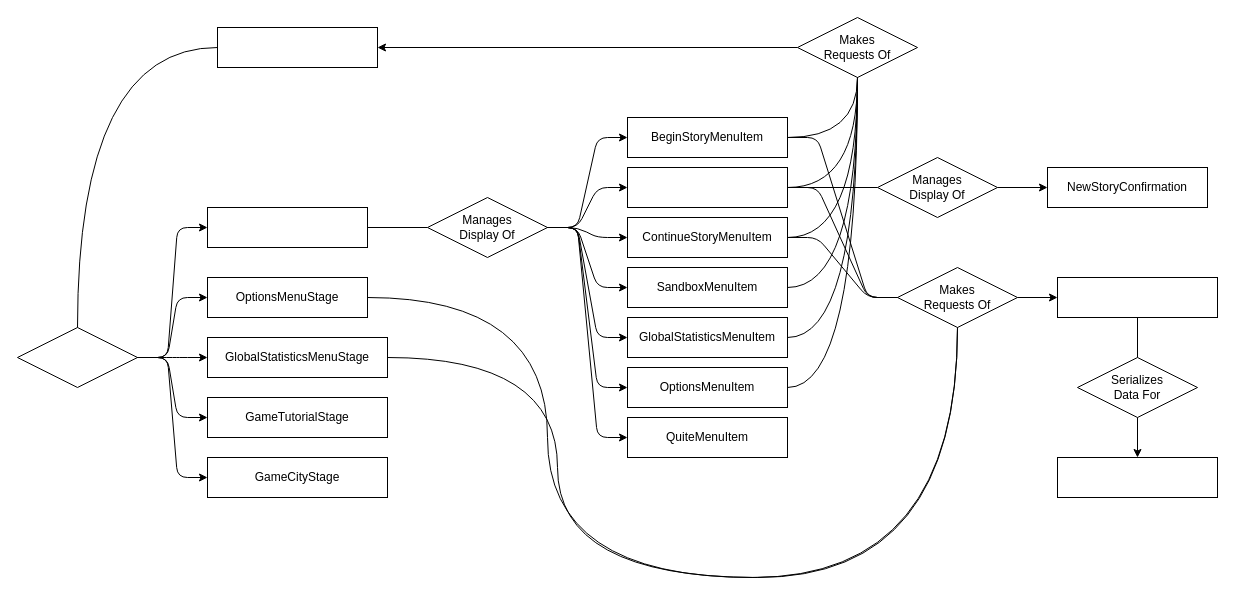
The diagram is 1235 pixels wide and 595 high, and some of its shapes have lost their labels. The centre of each missing label's shape, as x and y in pixels:
"GameDataStorage" belongs at (1137,477).
"MainMenuStage" belongs at (287,227).
"NewStoryMenuItem" belongs at (707,187).
"StageManager" belongs at (297,47).
"StoryGameDataManager" belongs at (1137,297).
"Switches Between" belongs at (77,357).
